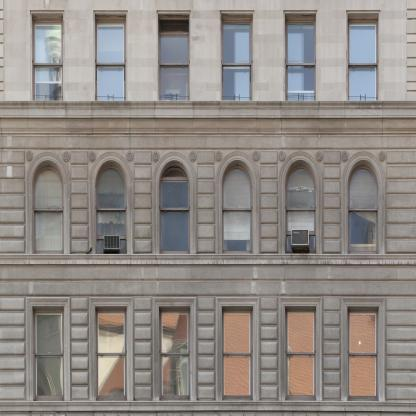Building Outline: (0, 1, 416, 416)
Facade: (0, 1, 416, 416)
Floor: (0, 1, 416, 133), (0, 148, 416, 280), (0, 296, 416, 415)
Floor Slab: (0, 280, 416, 296), (0, 133, 416, 149)
Pillar: (324, 300, 341, 401), (71, 300, 88, 401), (134, 300, 151, 401), (198, 300, 215, 401), (261, 300, 278, 401), (324, 152, 341, 253), (71, 152, 88, 253), (134, 152, 151, 253), (198, 152, 215, 253), (261, 152, 278, 253)
Sill: (0, 102, 416, 118), (0, 401, 416, 413), (0, 255, 416, 266)
Window: (32, 160, 64, 254), (348, 306, 379, 401), (33, 306, 64, 401), (96, 306, 127, 401), (159, 306, 190, 401), (222, 306, 253, 401), (285, 306, 316, 401), (348, 160, 379, 254), (96, 160, 127, 254), (159, 160, 190, 254), (222, 160, 253, 254), (285, 160, 316, 254), (32, 13, 63, 101), (348, 13, 379, 101), (285, 13, 316, 101), (222, 13, 253, 101), (159, 13, 190, 101), (95, 13, 126, 101)
